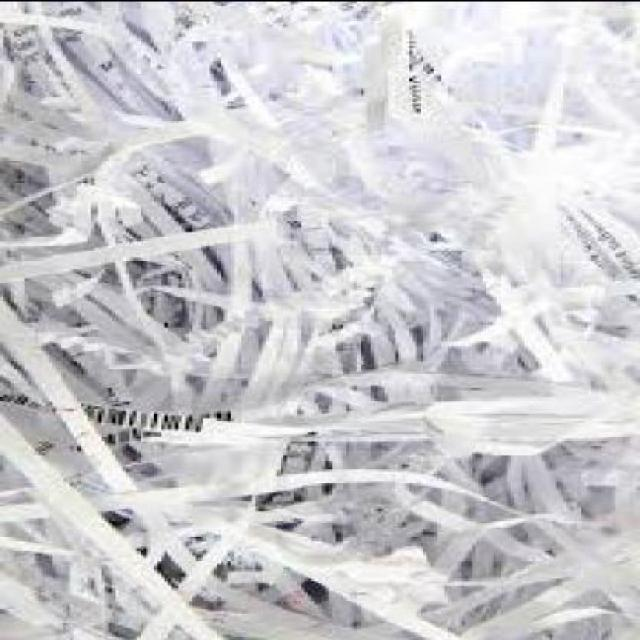PAPER: (3, 0, 640, 638)
